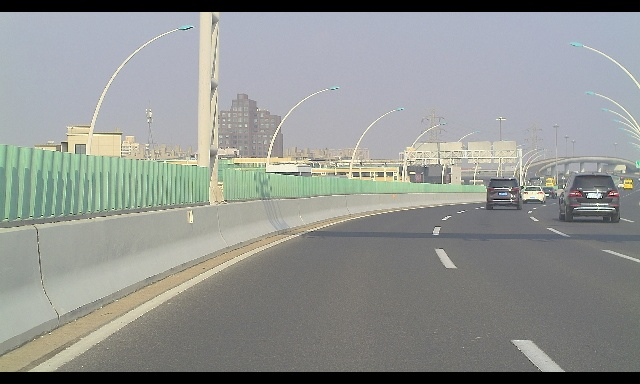car: (558, 172, 620, 222), (265, 164, 312, 199), (486, 176, 524, 210), (523, 186, 546, 204), (540, 187, 557, 199), (624, 179, 633, 189), (618, 183, 625, 188)
truck: (545, 177, 568, 187), (529, 177, 550, 187)
